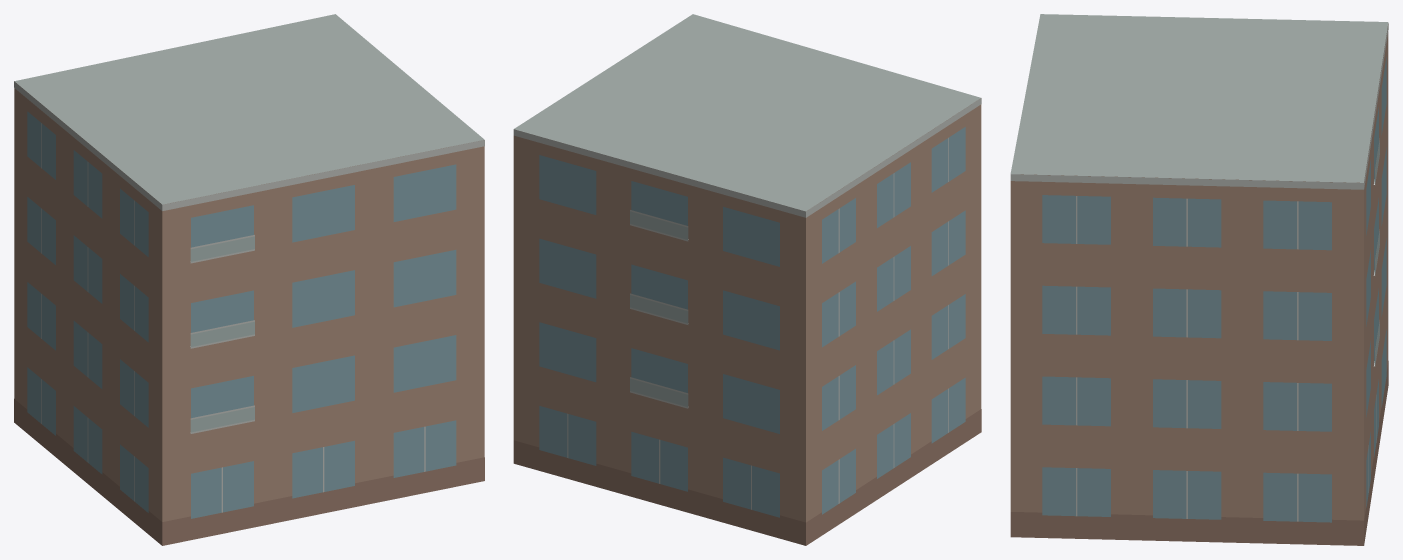
The model's file is survey-upis-32752502.glb.
3 views of the same model, side by side, from view 1: azimuth 30°, elevation 25°; view 2: azimuth 150°, elevation 25°; view 3: azimuth 270°, elevation 25° (orthographic). The views are drawn at different scales.
Visible parts, largest first — view 1: survey-upis-32752502.tmp; view 2: survey-upis-32752502.tmp; view 3: survey-upis-32752502.tmp.
Part boxes in pixels (left/top/right/bottom): survey-upis-32752502.tmp: left=14, top=14, right=484, bottom=545; survey-upis-32752502.tmp: left=513, top=14, right=981, bottom=545; survey-upis-32752502.tmp: left=1010, top=14, right=1388, bottom=545.
Bounding box in the file's own units: 12.78 × 12.8 × 12.09.
